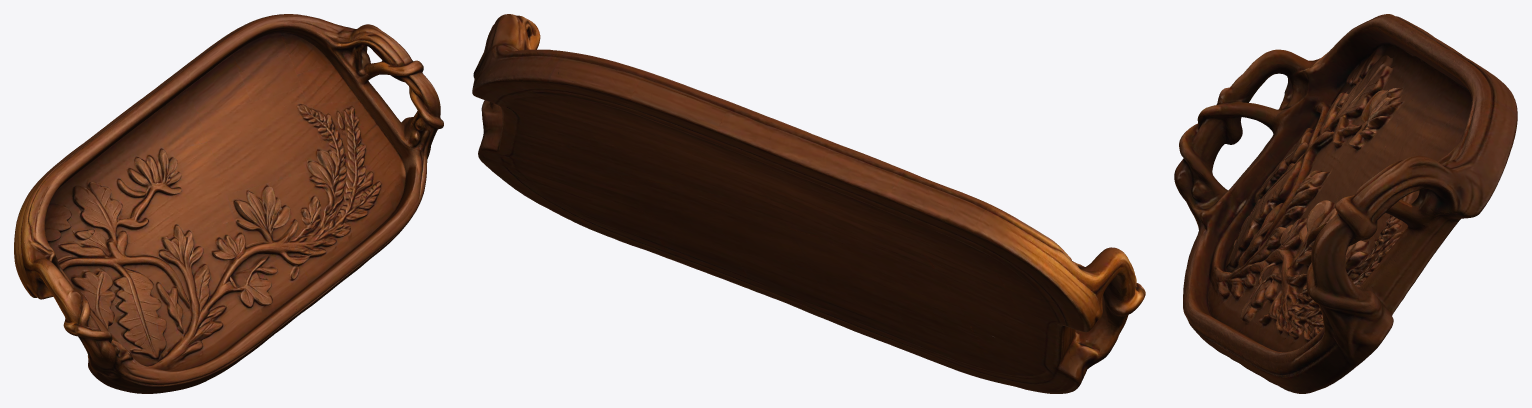
The model's file is podnos.glb.
3 renders of one model, left to right at view 1: azimuth 30°, elevation 25°; view 2: azimuth 150°, elevation 25°; view 3: azimuth 270°, elevation 25°, orthographic. The views are drawn at different scales.
Visible parts, largest first — view 1: aiprintgen_tmpmeytn9w1.obj; view 2: aiprintgen_tmpmeytn9w1.obj; view 3: aiprintgen_tmpmeytn9w1.obj.
Boxes of the visible parts, box(x1,y1,x2,y2) form: aiprintgen_tmpmeytn9w1.obj: box(14, 14, 443, 393); aiprintgen_tmpmeytn9w1.obj: box(472, 14, 1145, 393); aiprintgen_tmpmeytn9w1.obj: box(1174, 14, 1517, 393).
Bounding box in the file's own units: 1.91 × 1.1 × 0.9504.
1 material, 1 textured.
